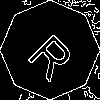R: (25, 25, 83, 83)
